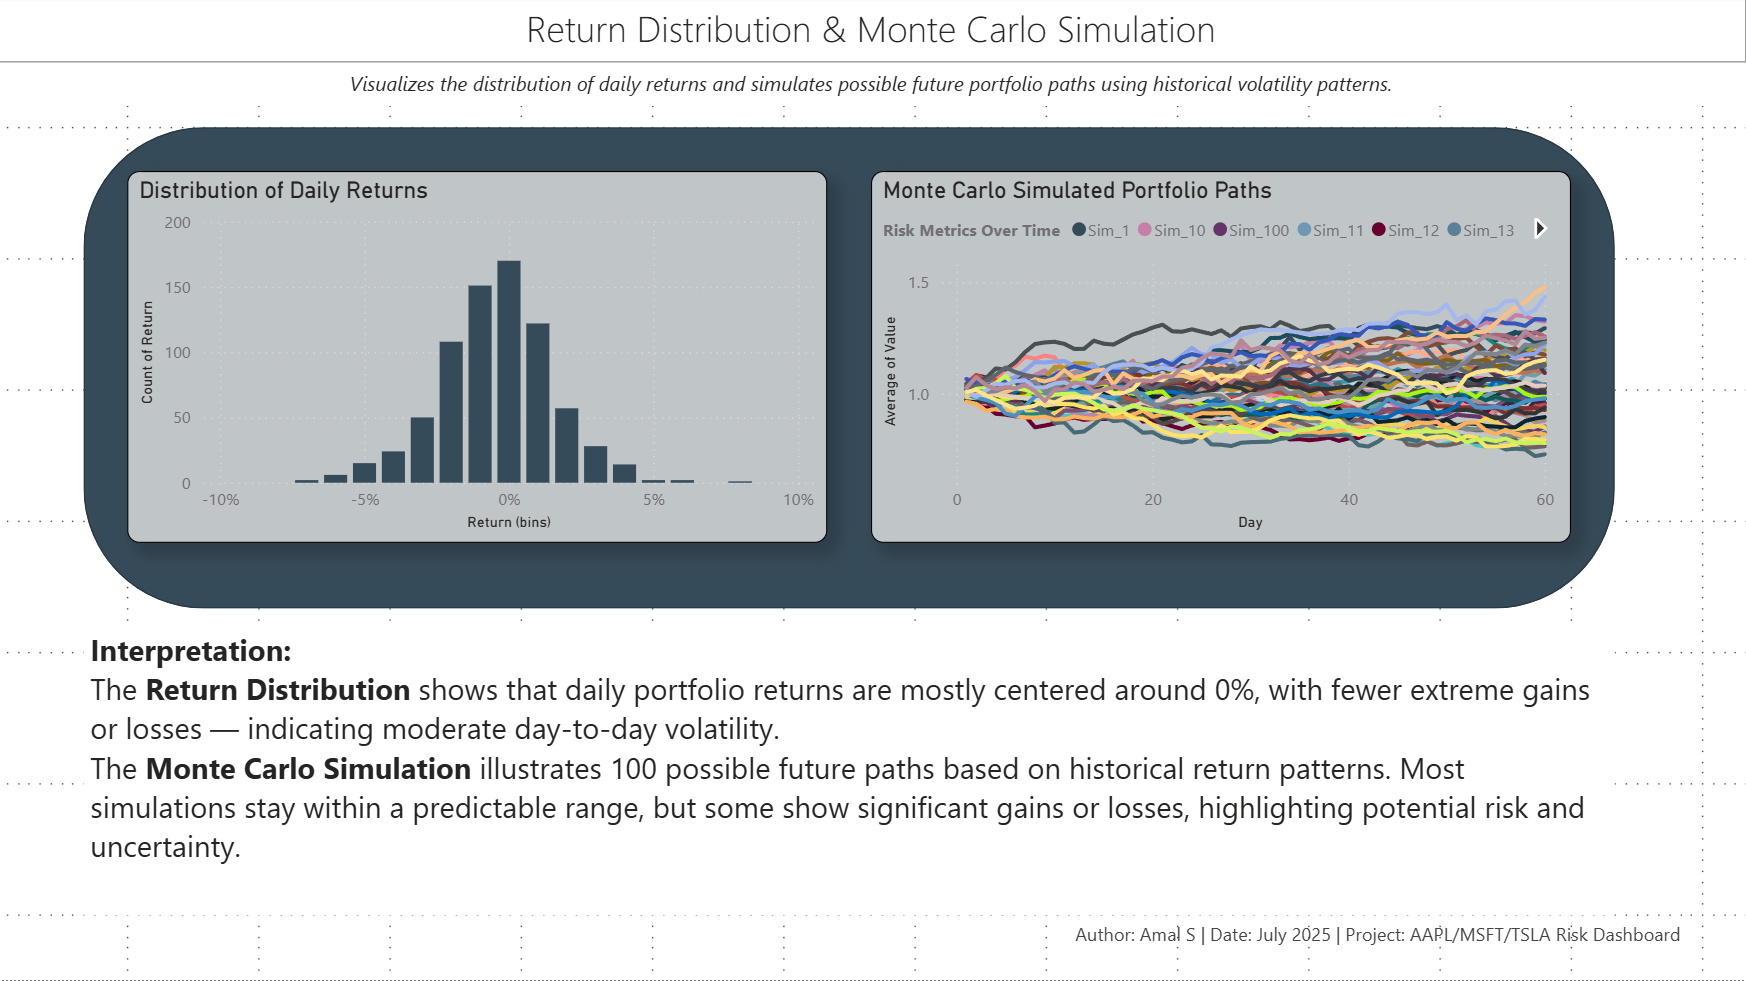

The dashboard page shown, as its layout file describes it:
{"tool":"powerbi","page":{"name":"Page 3","canvas":[1280,720],"ordinal":3},"visuals":[{"type":"shape","box":[64,96,1120,352],"z":0},{"type":"shape","box":[0,0,304,80],"z":1000},{"type":"shape","box":[976,0,304,80],"z":2000},{"type":"shape","box":[288,0,304,80],"z":3000},{"type":"shape","box":[592,0,304,80],"z":4000},{"type":"shape","box":[0,0,1280,96],"z":5000},{"type":"textbox","box":[784,672,464,48],"z":6000},{"type":"textbox","box":[0,0,1280,48],"z":7000},{"type":"textbox","box":[0,48,1280,32],"z":8000},{"type":"clusteredColumnChart","title":"Distribution of Daily Returns","fields":{"Category":["powerbi_timeseries.Return (bins)"],"Y":["CountNonNull(powerbi_timeseries.Return)"]},"box":[96,128,512,272],"z":9000},{"type":"lineChart","title":"Monte Carlo Simulated Portfolio Paths","fields":{"Category":["mc_simulation.Day"],"Y":["Avg(mc_simulation.Value)"],"Series":["mc_simulation.Simulation"]},"box":[640,128,512,272],"z":10000},{"type":"textbox","box":[64,458,1120,214],"z":11000}]}

Visuals, with their boxes in screenshot pixels (x1, y1, x2, y2), scaled from the page's 1280x720 canvas onto the 1746x981 screenshot:
shape: [87,131,1615,610]
shape: [0,0,415,109]
shape: [1331,0,1745,109]
shape: [393,0,808,109]
shape: [808,0,1222,109]
shape: [0,0,1745,131]
textbox: [1069,916,1702,980]
textbox: [0,0,1745,65]
textbox: [0,65,1745,109]
"Distribution of Daily Returns" clusteredColumnChart: [131,174,829,545]
"Monte Carlo Simulated Portfolio Paths" lineChart: [873,174,1571,545]
textbox: [87,624,1615,916]
